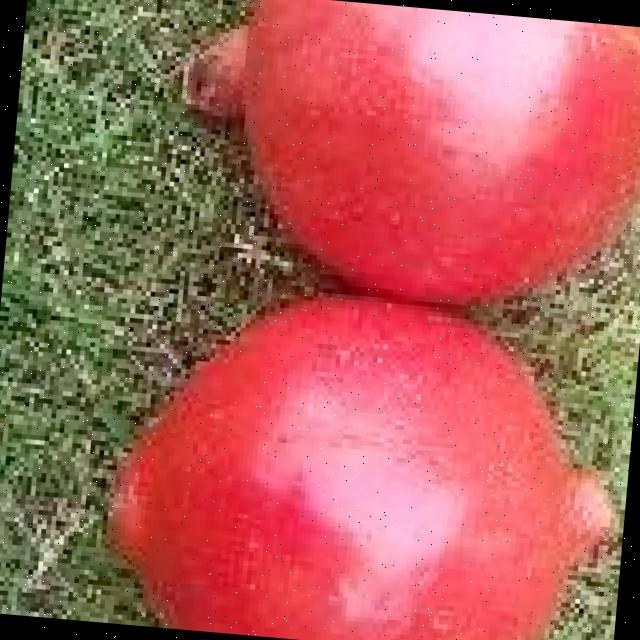Good_Pomegranate-50-60-days: (105, 0, 640, 640)
